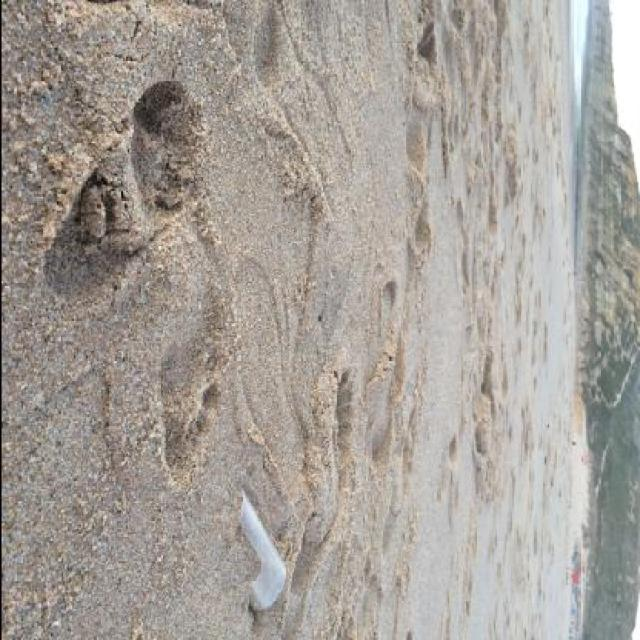plastic: (237, 488, 285, 612)
